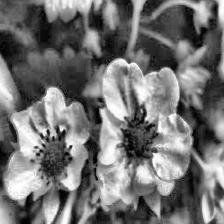Blossom Blight: (114, 105, 162, 168), (28, 126, 76, 188)
